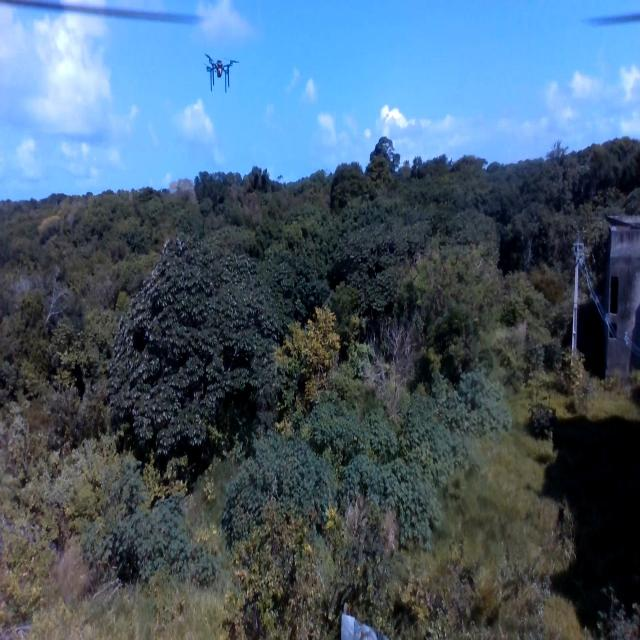-uav-: (199, 44, 241, 101)
